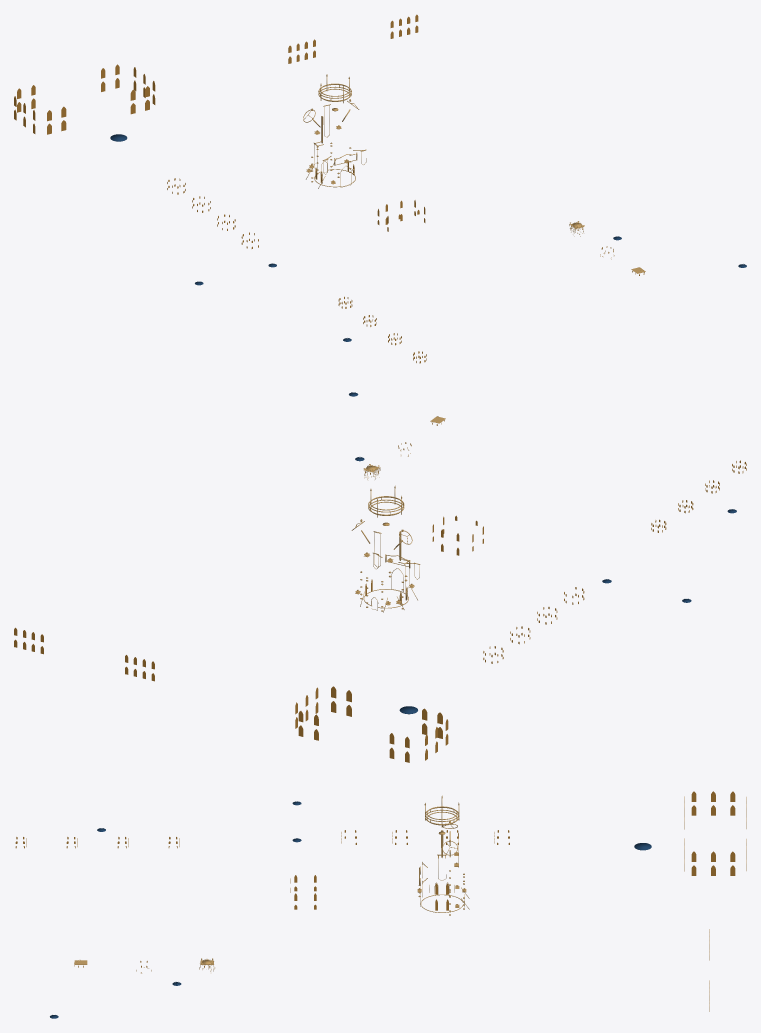
The model's file is Neris-19.glb.
3 views of the same model, one above another, from view 1: azimuth 30°, elevation 25°; view 2: azimuth 150°, elevation 25°; view 3: azimuth 270°, elevation 25° (orthographic). The views are drawn at different scales.
Parts seen in each view (by area): view 1: Amber Window Glass, Aged Gold; view 2: Amber Window Glass, Aged Gold; view 3: Amber Window Glass, Aged Gold.
Part boxes in pixels (<box>): Amber Window Glass: <box>14,14,644,363</box>; Aged Gold: <box>303,74,645,273</box>; Amber Window Glass: <box>14,420,746,762</box>; Aged Gold: <box>351,416,445,612</box>; Amber Window Glass: <box>15,791,746,1011</box>; Aged Gold: <box>74,795,469,971</box>.
Bounding box in the file's own units: 423 × 95.56 × 604.
